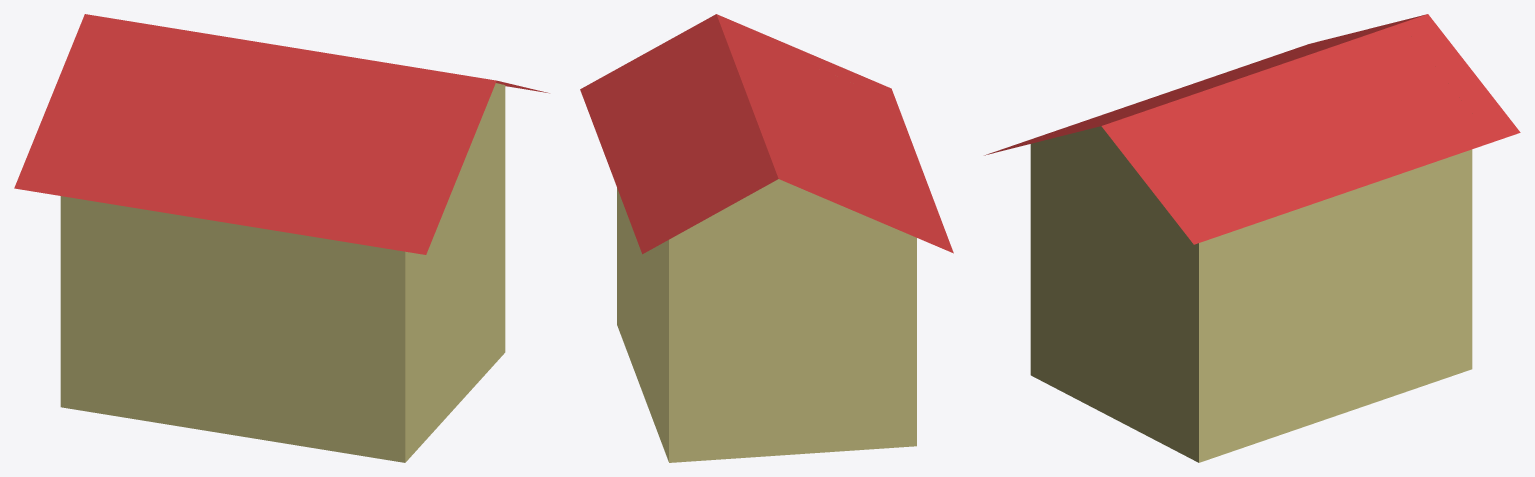
The picture shows the model from 3 angles, left to right: view 1: azimuth 30°, elevation 25°; view 2: azimuth 150°, elevation 25°; view 3: azimuth 270°, elevation 25°; orthographic projection. The views are drawn at different scales.
Bounding box in the file's own units: 11.47 × 11.74 × 7.44.
